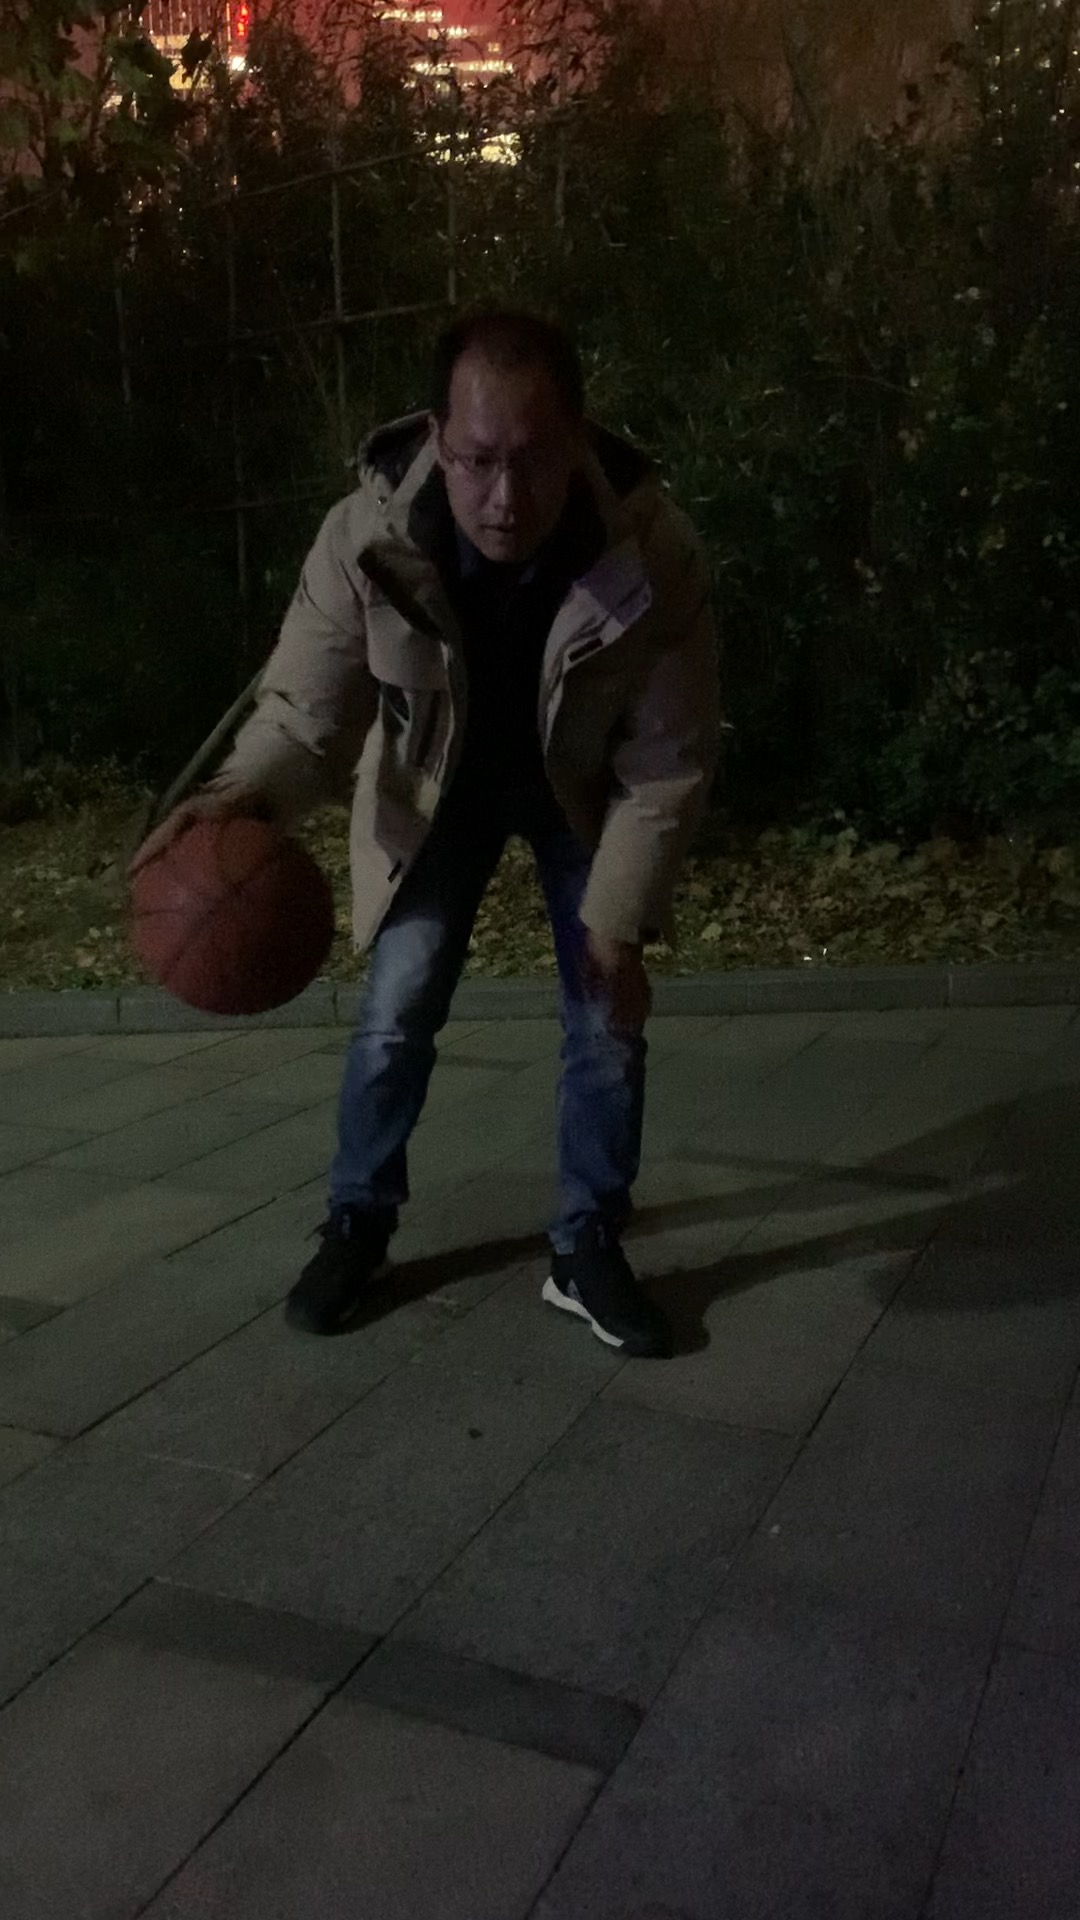ball: (124, 808, 334, 1021)
